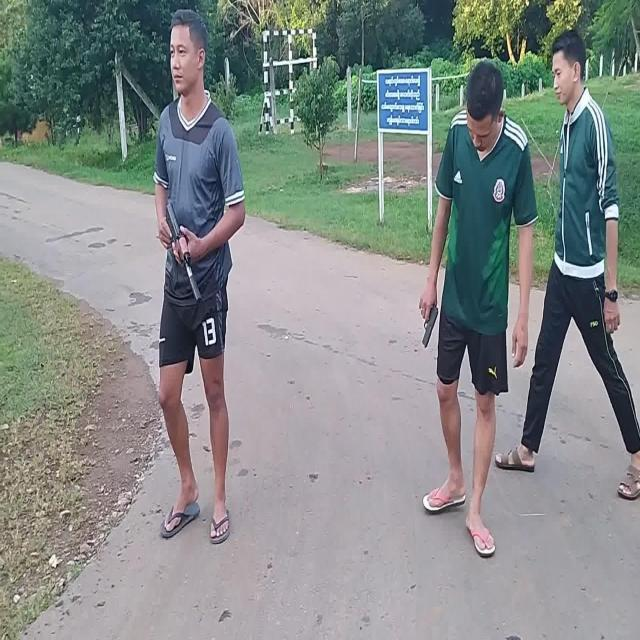gun: (166, 202, 202, 305), (422, 303, 438, 347)
